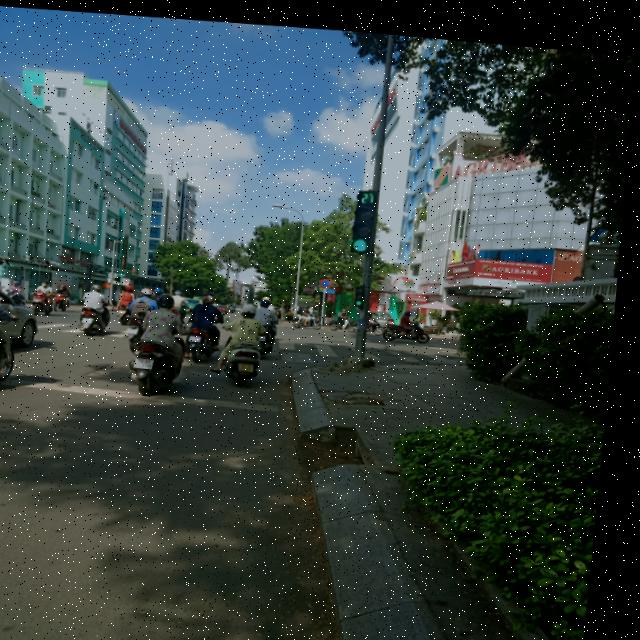Green: (348, 198, 390, 251), (354, 271, 380, 306)
